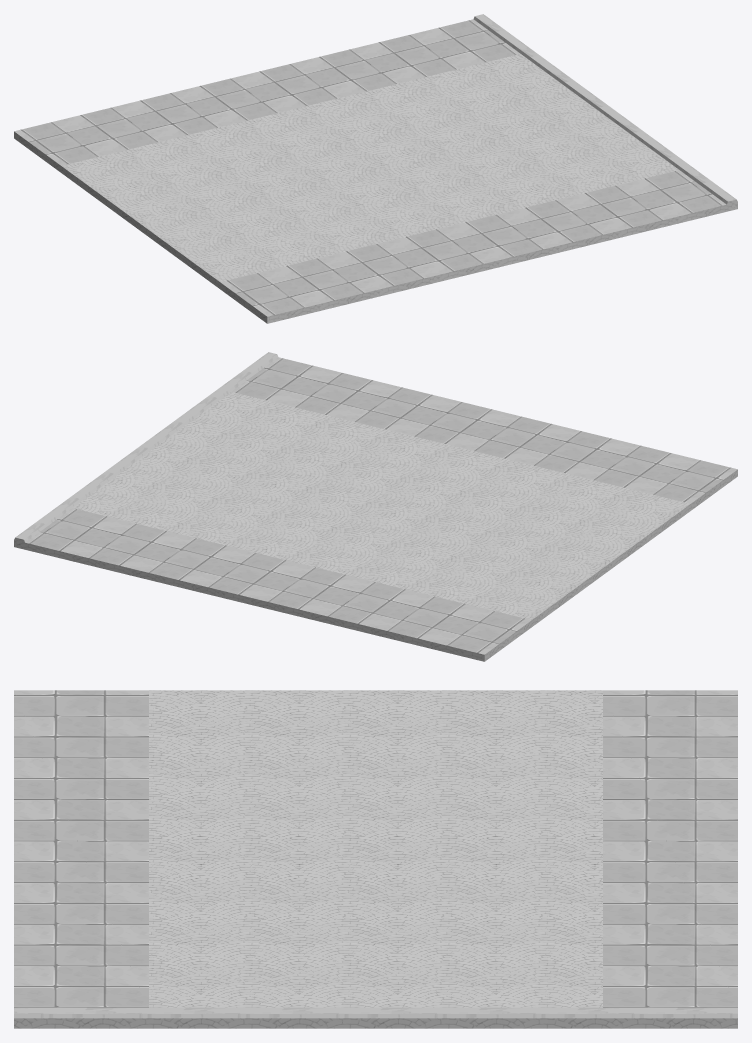
The model's file is Ground_B_001.fbx.
3 views of the same model, one above another, from view 1: azimuth 30°, elevation 25°; view 2: azimuth 150°, elevation 25°; view 3: azimuth 270°, elevation 25° (orthographic). The views are drawn at different scales.
Visible parts, largest first — view 1: Ground_B_001; view 2: Ground_B_001; view 3: Ground_B_001.
Boxes of the visible parts, x1,y1,x2,y2 form: Ground_B_001: (14, 14, 737, 323); Ground_B_001: (14, 352, 737, 661); Ground_B_001: (14, 690, 737, 1028).
Bounding box in the file's own units: 789 × 15.69 × 735.
3 materials, 3 textured.
